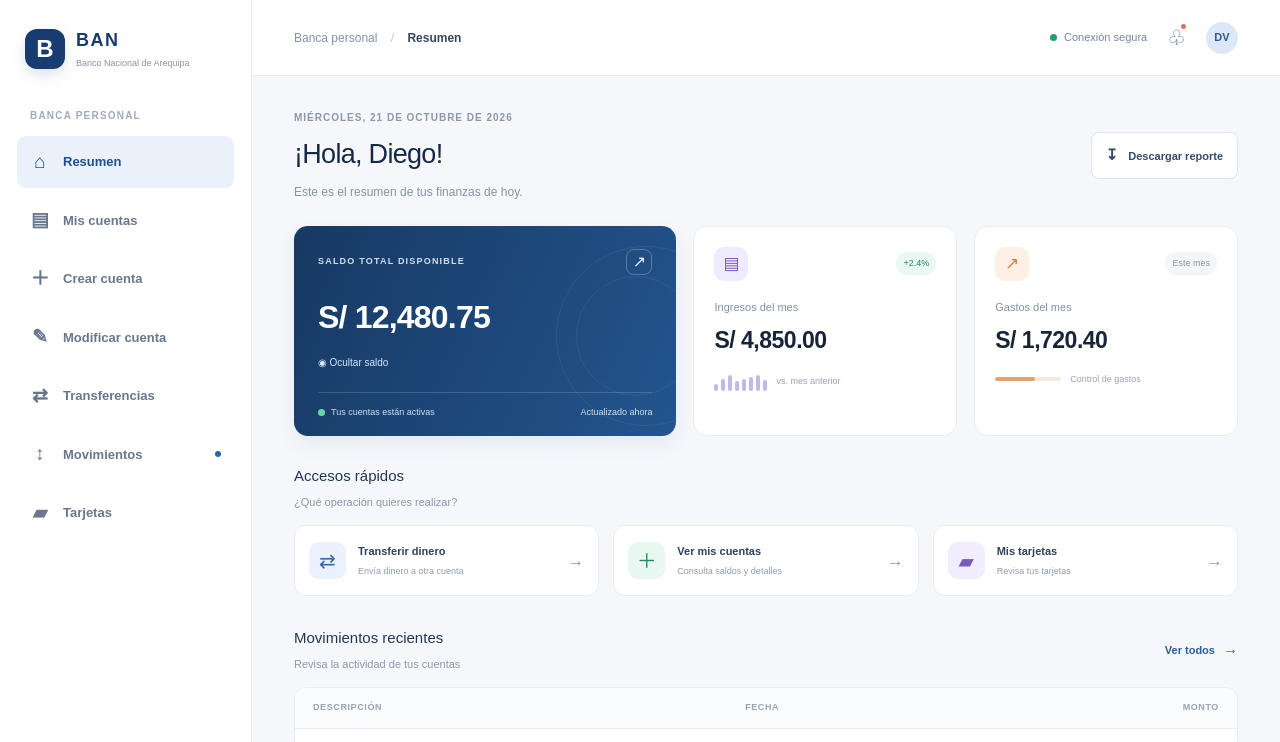
Transferencias › CP-15 Acepta monto igual al saldo (valor límite)
Step 1. Click the button "⇄ Transferencias" → (126, 396), box [17,370,234,422]
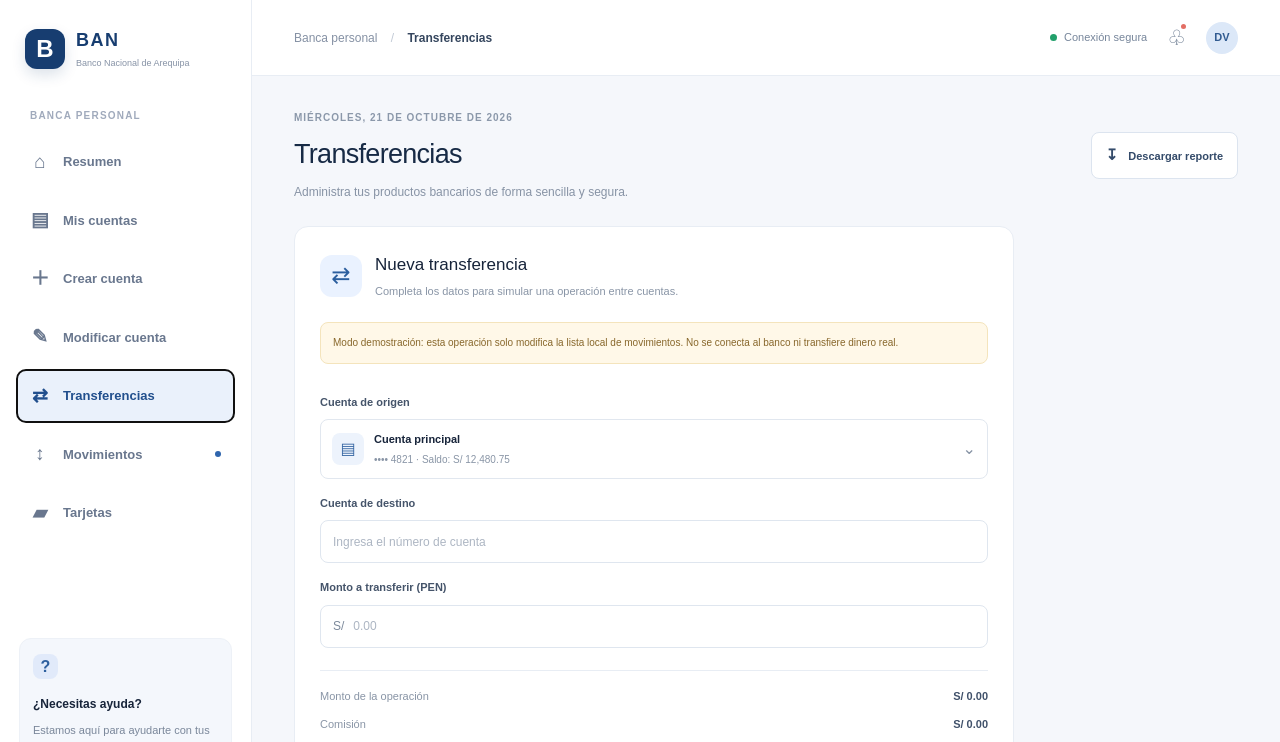
Step 2. Type "123456789" into the field labelled "Cuenta de destino" → (654, 542), box [320,520,988,563]
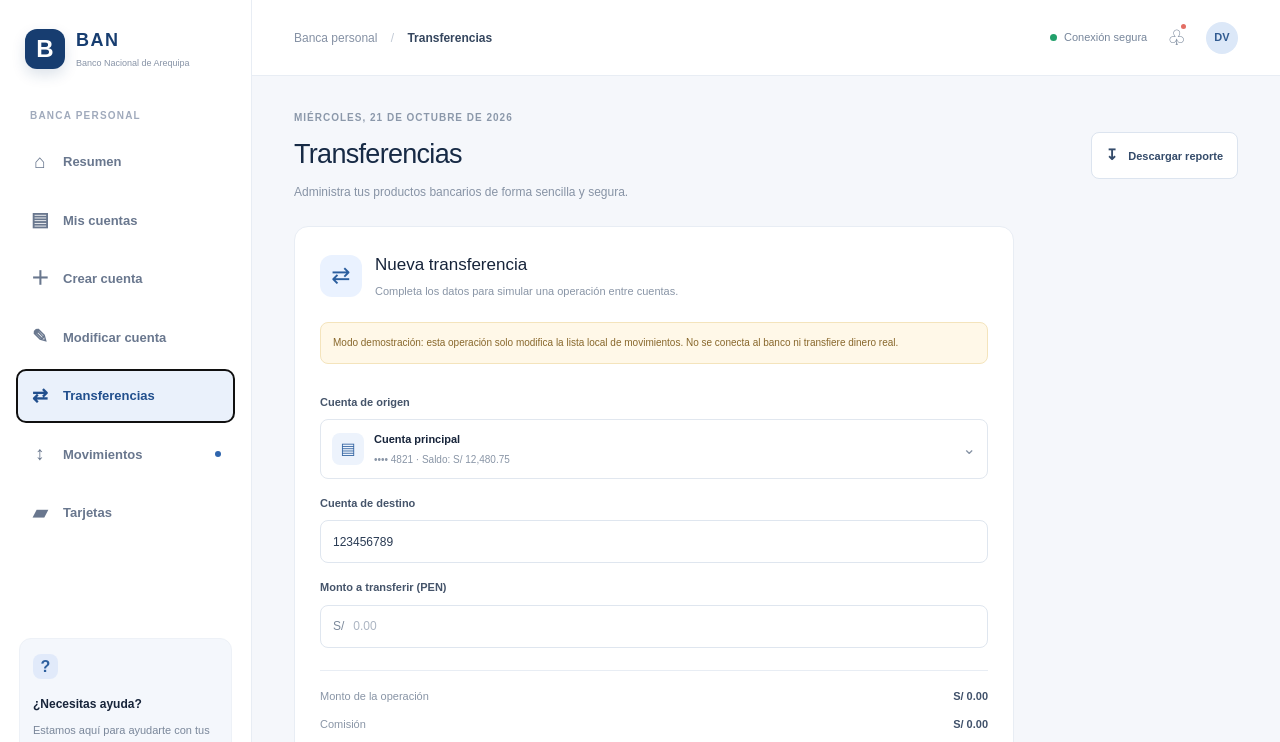
Step 3. Type "12480.75" into the number field labelled "Monto a transferir (PEN)" → (664, 626), box [353,606,975,646]
(page scrolled)
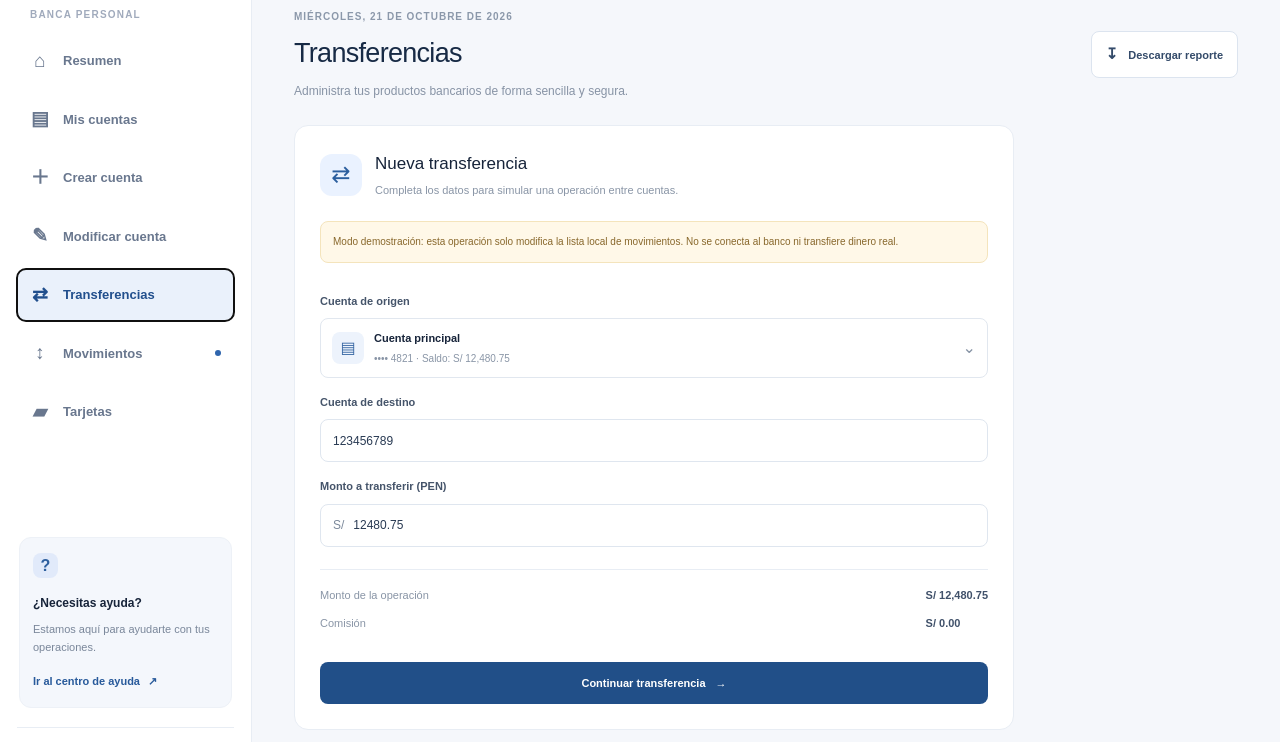
Step 4. Submit the form named "Continuar transferencia", box [320,286,988,704]
(page scrolled)
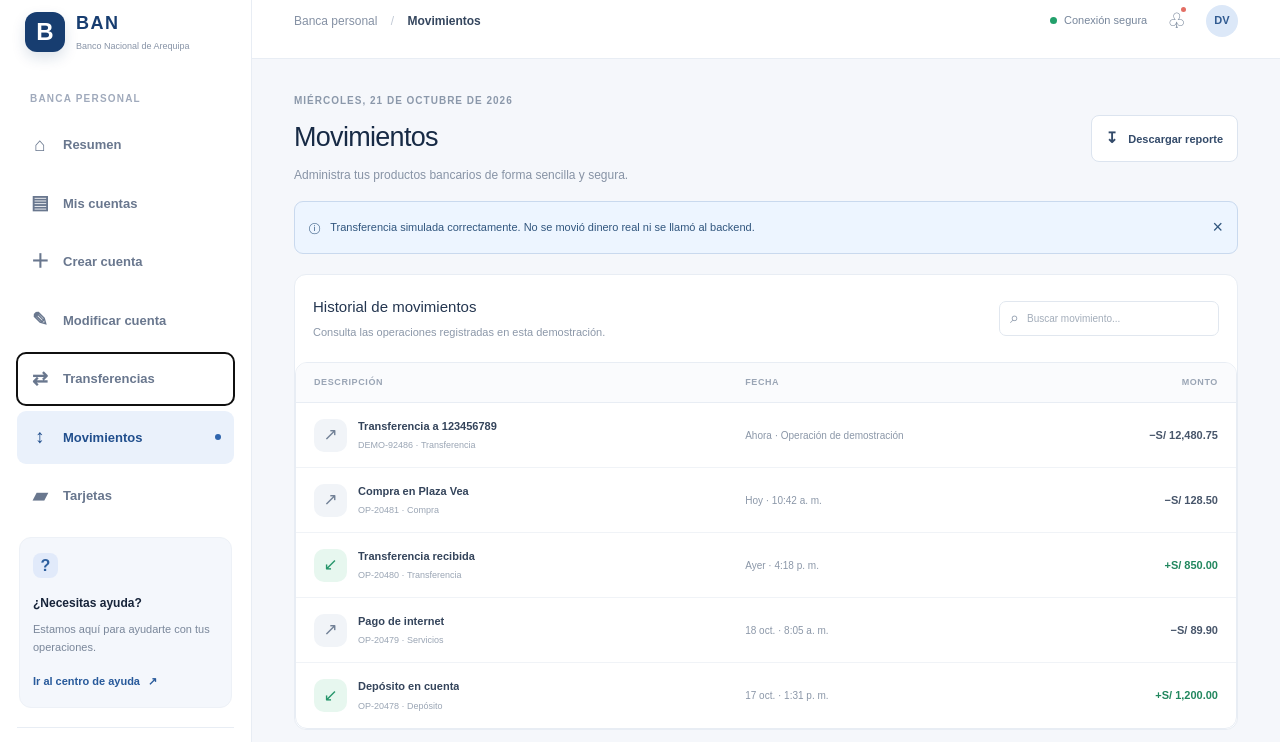
Expected: the message shows "Transferencia simulada correctamente", [330,221,755,233]
